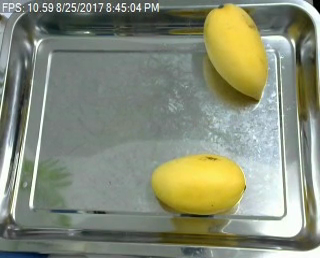Mango: (197, 0, 274, 107), (148, 148, 249, 217)
